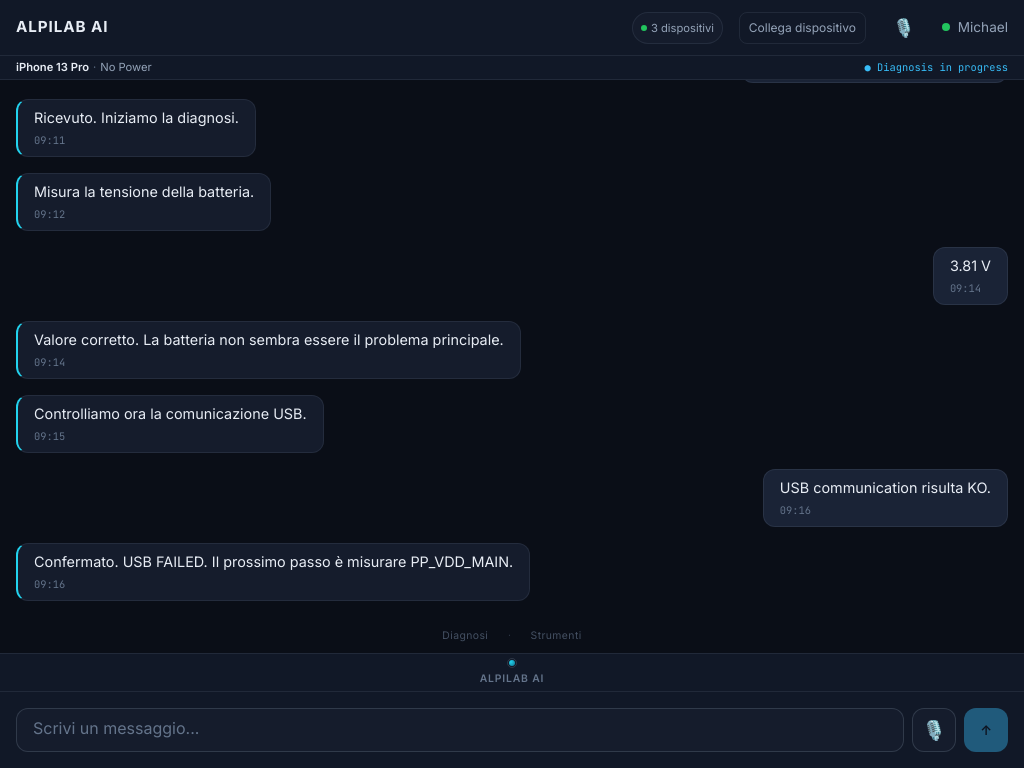
Scenario: HomePage V0.3.1 core states › shows STO PENSANDO... while processing a message
(page scrolled)
In the text box labelled "messaggio": coordinates (460, 730) [16,708,904,752], type "Test stato"
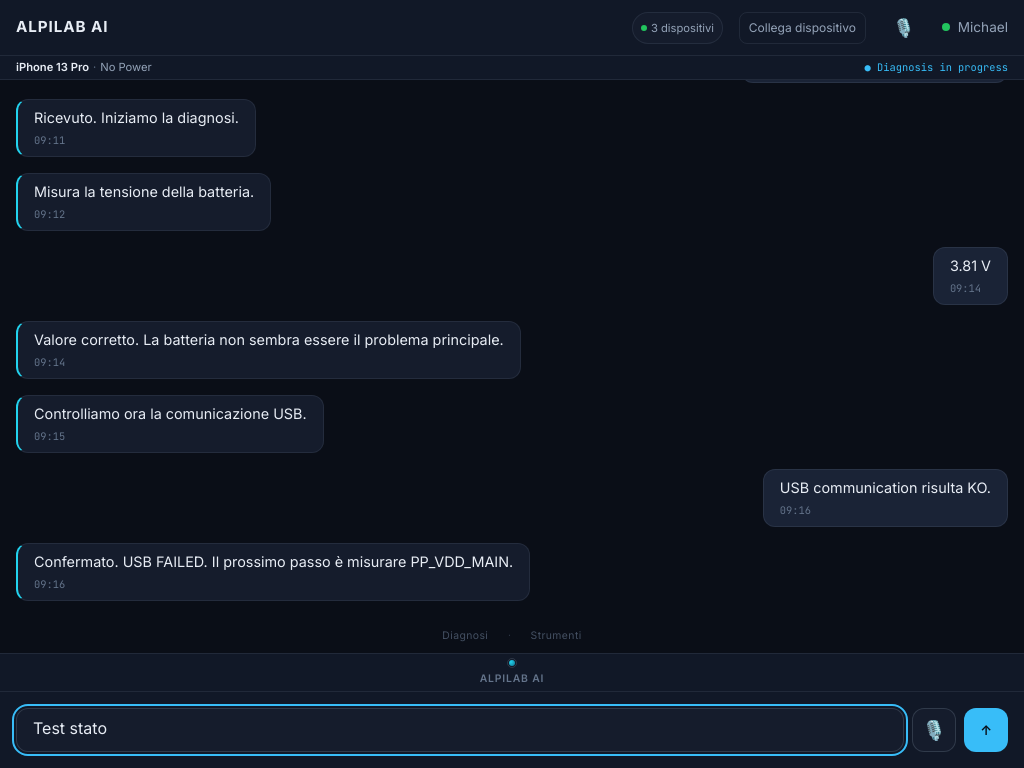
Click the button named "Invia messaggio": coordinates (986, 730) [964,708,1008,752]
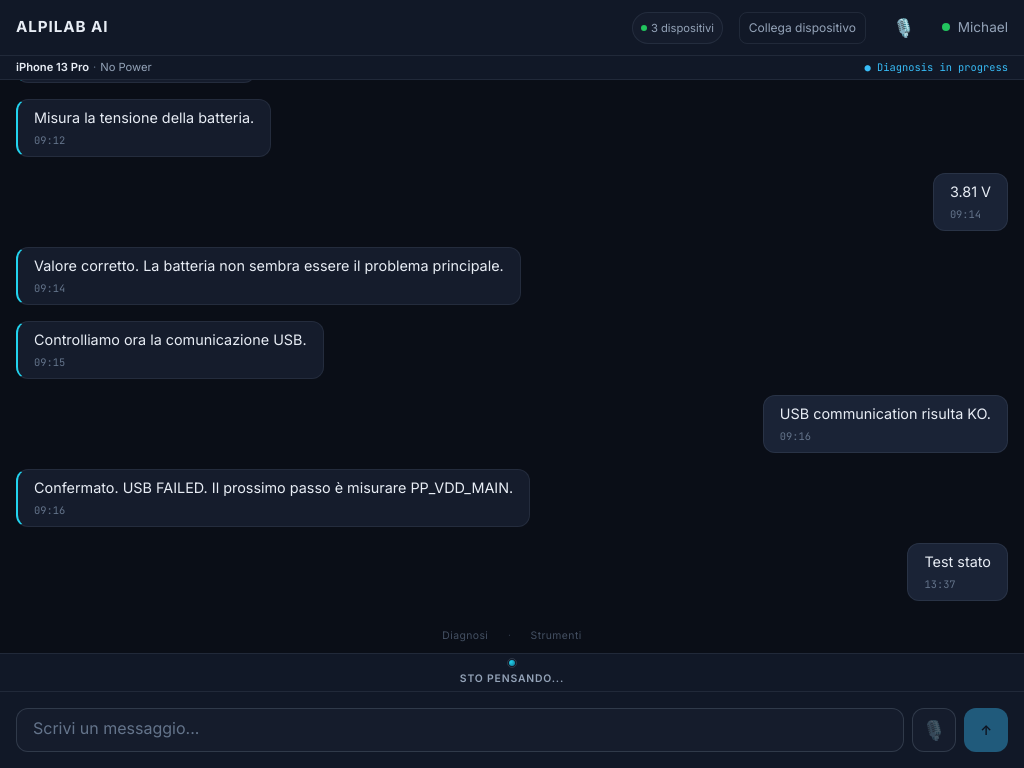
Expected: the text with test id "core-status-label" reads "STO PENSANDO...", [460,672,564,685]
